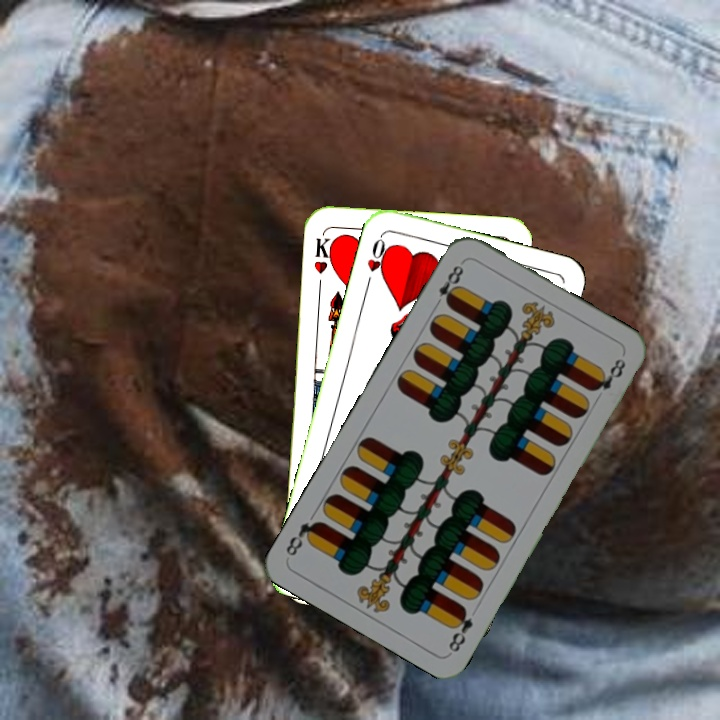E8: (430, 258, 467, 311), (444, 602, 476, 655)
HK: (309, 230, 337, 277)
HO: (362, 232, 394, 290)
